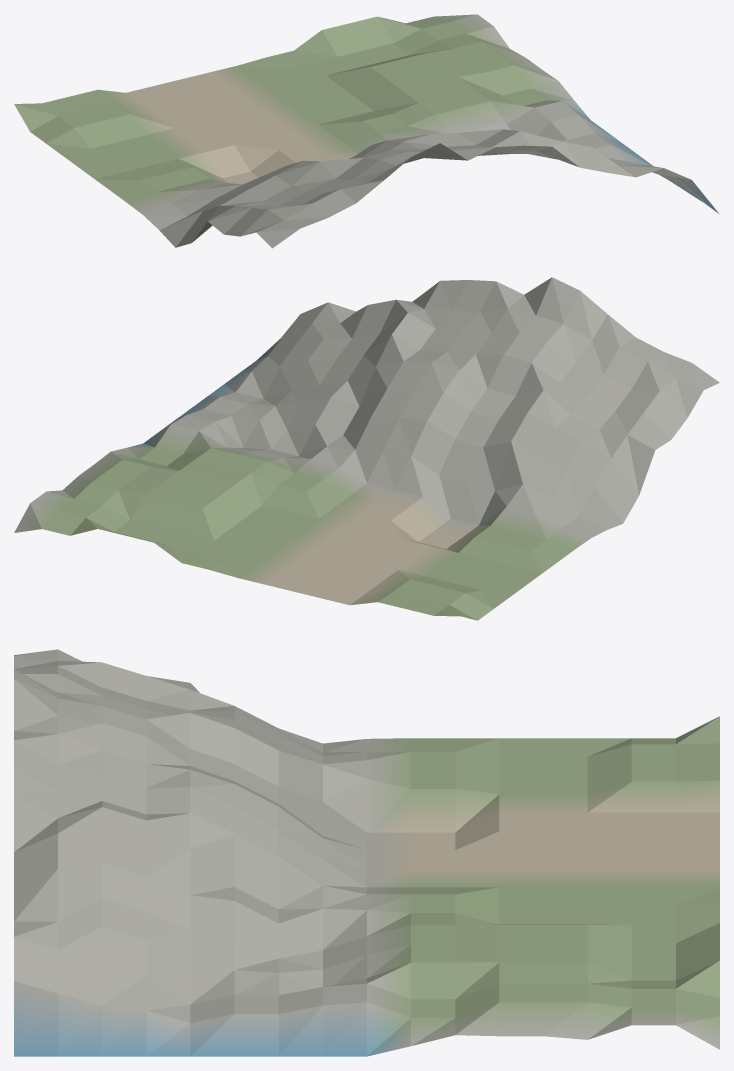
The picture shows the model from 3 angles, top to bottom: view 1: azimuth 30°, elevation 25°; view 2: azimuth 150°, elevation 25°; view 3: azimuth 270°, elevation 25°; orthographic projection. The views are drawn at different scales.
Size of the model in its own units: 32 by 9.56 by 32.
